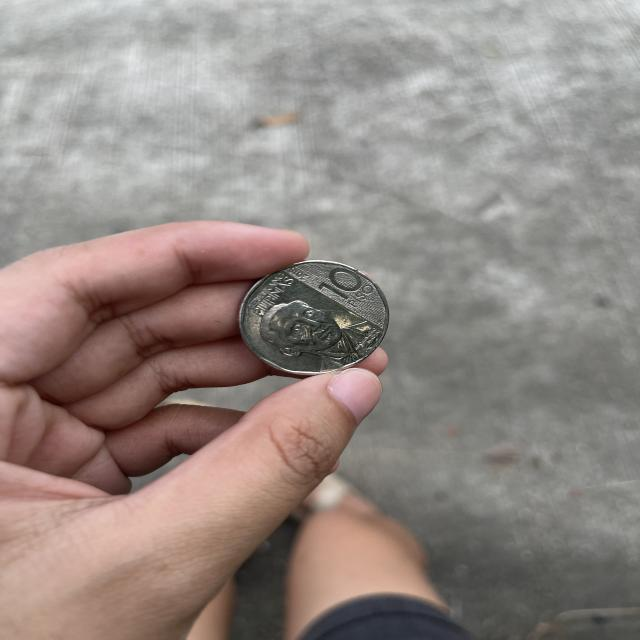10_New_Front: (313, 264, 377, 311)
